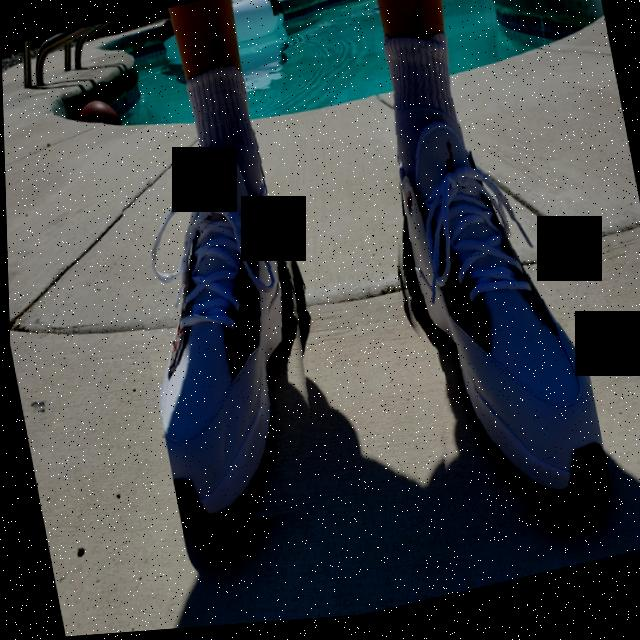shoe: (360, 65, 610, 544), (110, 120, 344, 543)
